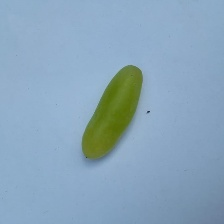grapes: (57, 17, 192, 219)
